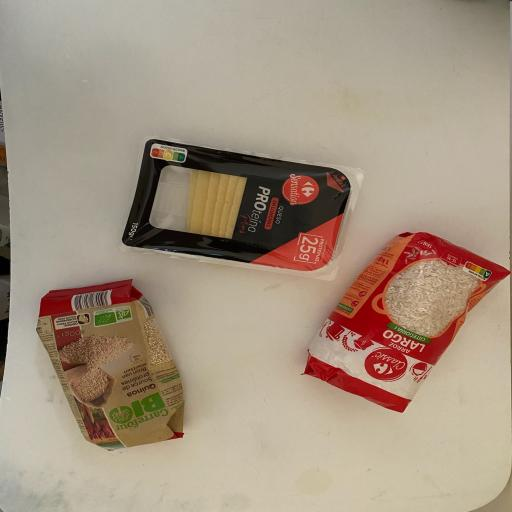cheese: (117, 136, 354, 276)
quinoa: (33, 279, 191, 455)
rice: (307, 230, 505, 415)
